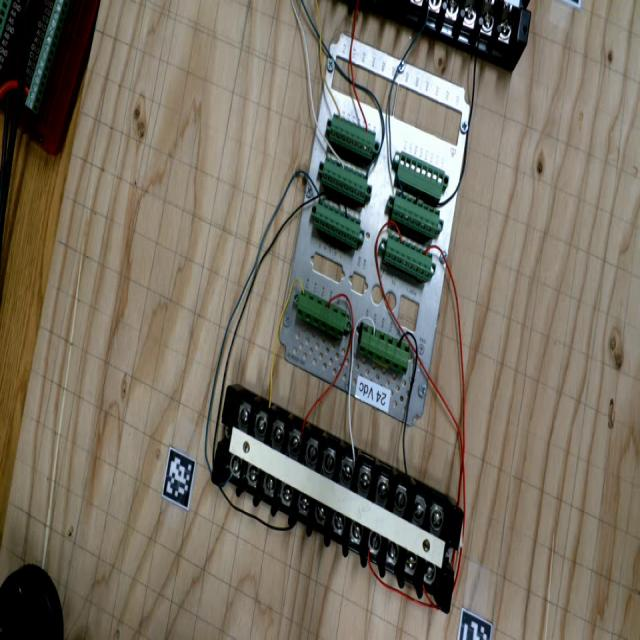Flathead_Block: (184, 382, 495, 614)
Phillips_Block: (400, 0, 540, 43)
Terminal_1: (351, 322, 418, 375), (290, 288, 355, 340)
Terminal_2: (306, 198, 370, 250), (376, 232, 440, 282), (384, 189, 448, 239), (314, 156, 376, 203), (323, 112, 383, 160)
